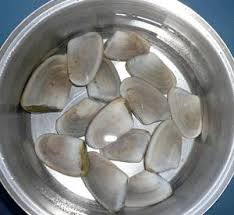tuatua: (19, 54, 70, 113), (83, 150, 129, 213), (34, 132, 90, 177), (118, 75, 168, 125), (86, 95, 132, 147), (66, 31, 105, 89), (143, 118, 180, 177), (125, 53, 178, 94), (168, 86, 206, 142), (52, 98, 105, 136), (127, 170, 173, 209), (101, 128, 149, 164), (104, 29, 154, 63), (89, 60, 122, 103)
